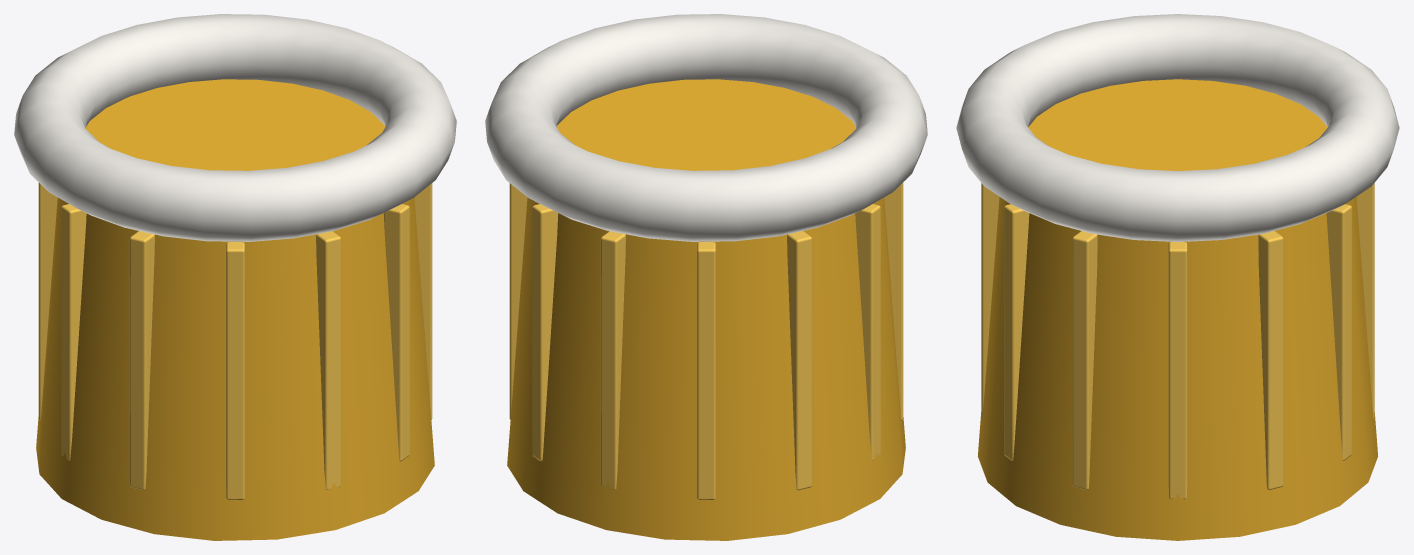
File: mall-trash-can.glb
The picture shows the model from 3 angles, left to right: view 1: azimuth 30°, elevation 25°; view 2: azimuth 150°, elevation 25°; view 3: azimuth 270°, elevation 25°; orthographic projection.
Parts seen in each view (by area): view 1: body, rim, rib-5, rib-3, rib-4, rib-2, rib-6, rib-7, rib-1; view 2: body, rim, rib-7, rib-9, rib-8, rib-10, rib-6, rib-5, rib-11; view 3: body, rim, rib-1, rib-11, rib-0, rib-2, rib-10, rib-9, rib-3.
Boxes of the visible parts, x1=… form: body: x1=36, y1=79, x2=434, y2=540; rim: x1=14, y1=14, x2=456, y2=241; rib-5: x1=129, y1=231, x2=154, y2=490; rib-3: x1=316, y1=231, x2=341, y2=489; rib-4: x1=226, y1=242, x2=244, y2=499; rib-2: x1=383, y1=204, x2=409, y2=461; rib-6: x1=61, y1=204, x2=86, y2=460; rib-7: x1=38, y1=182, x2=57, y2=420; rib-1: x1=414, y1=183, x2=432, y2=419; body: x1=507, y1=79, x2=905, y2=540; rim: x1=485, y1=14, x2=927, y2=241; rib-7: x1=787, y1=231, x2=812, y2=490; rib-9: x1=600, y1=231, x2=625, y2=489; rib-8: x1=697, y1=242, x2=715, y2=499; rib-10: x1=532, y1=204, x2=558, y2=461; rib-6: x1=855, y1=204, x2=880, y2=460; rib-5: x1=884, y1=182, x2=903, y2=420; rib-11: x1=509, y1=183, x2=527, y2=419; body: x1=978, y1=79, x2=1377, y2=540; rim: x1=956, y1=14, x2=1399, y2=241; rib-1: x1=1072, y1=231, x2=1097, y2=489; rib-11: x1=1258, y1=231, x2=1283, y2=489; rib-0: x1=1168, y1=242, x2=1187, y2=499; rib-2: x1=1004, y1=204, x2=1029, y2=460; rib-10: x1=1326, y1=204, x2=1351, y2=460; rib-9: x1=1356, y1=183, x2=1374, y2=419; rib-3: x1=981, y1=183, x2=999, y2=418.
Bounding box in the file's own units: 0.93 × 0.8313 × 0.93.
